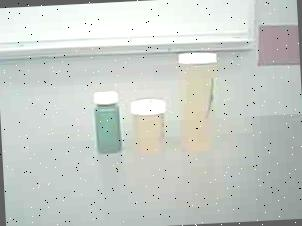Bottle A: (173, 45, 228, 156)
Bottle B: (127, 92, 171, 155)
Bottle C: (86, 85, 127, 160)
